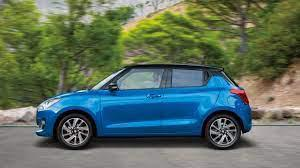Hatchback: (32, 61, 255, 151)
